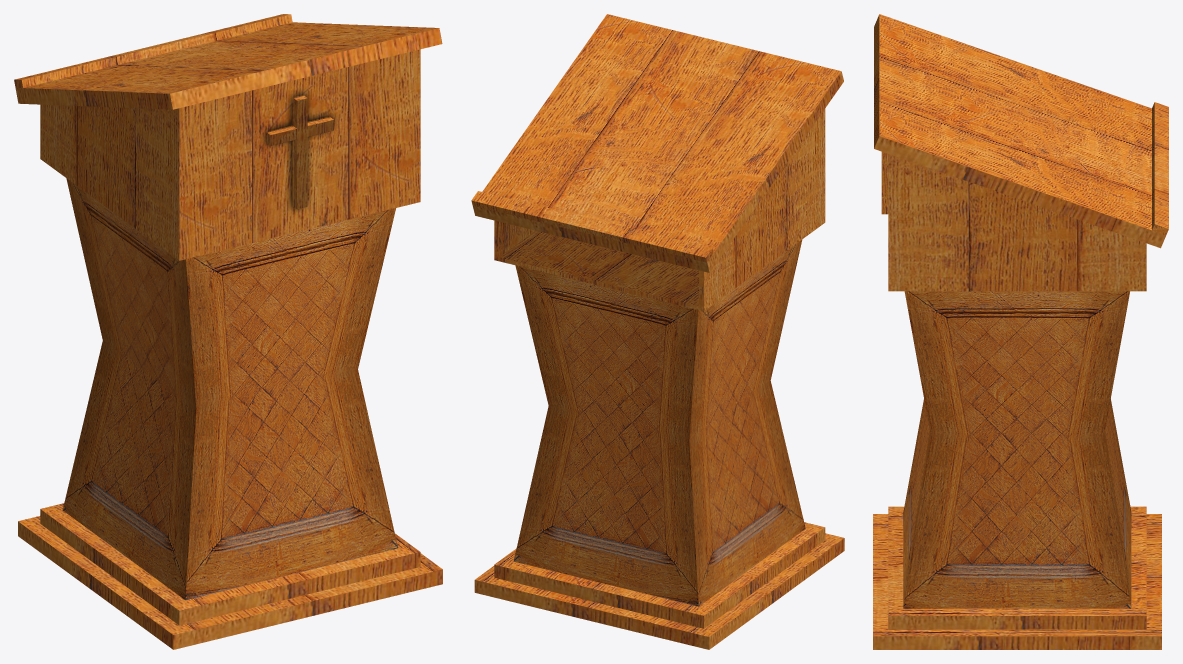
File: podium.fbx
3 views of the same model, side by side, from view 1: azimuth 30°, elevation 25°; view 2: azimuth 150°, elevation 25°; view 3: azimuth 270°, elevation 25° (orthographic). The views are drawn at different scales.
Parts seen in each view (by area): view 1: Podium:Podium; view 2: Podium:Podium; view 3: Podium:Podium.
Part boxes in pixels (bbox=[...]): Podium:Podium: bbox=[14, 14, 442, 649]; Podium:Podium: bbox=[471, 14, 844, 649]; Podium:Podium: bbox=[873, 14, 1168, 649].
Size of the model in its own units: 0.7585 by 1.49 by 0.7773.
